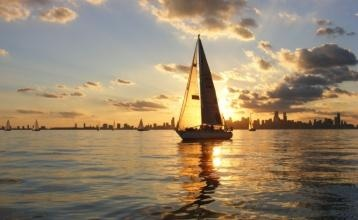fanchuan: (171, 31, 240, 143)
